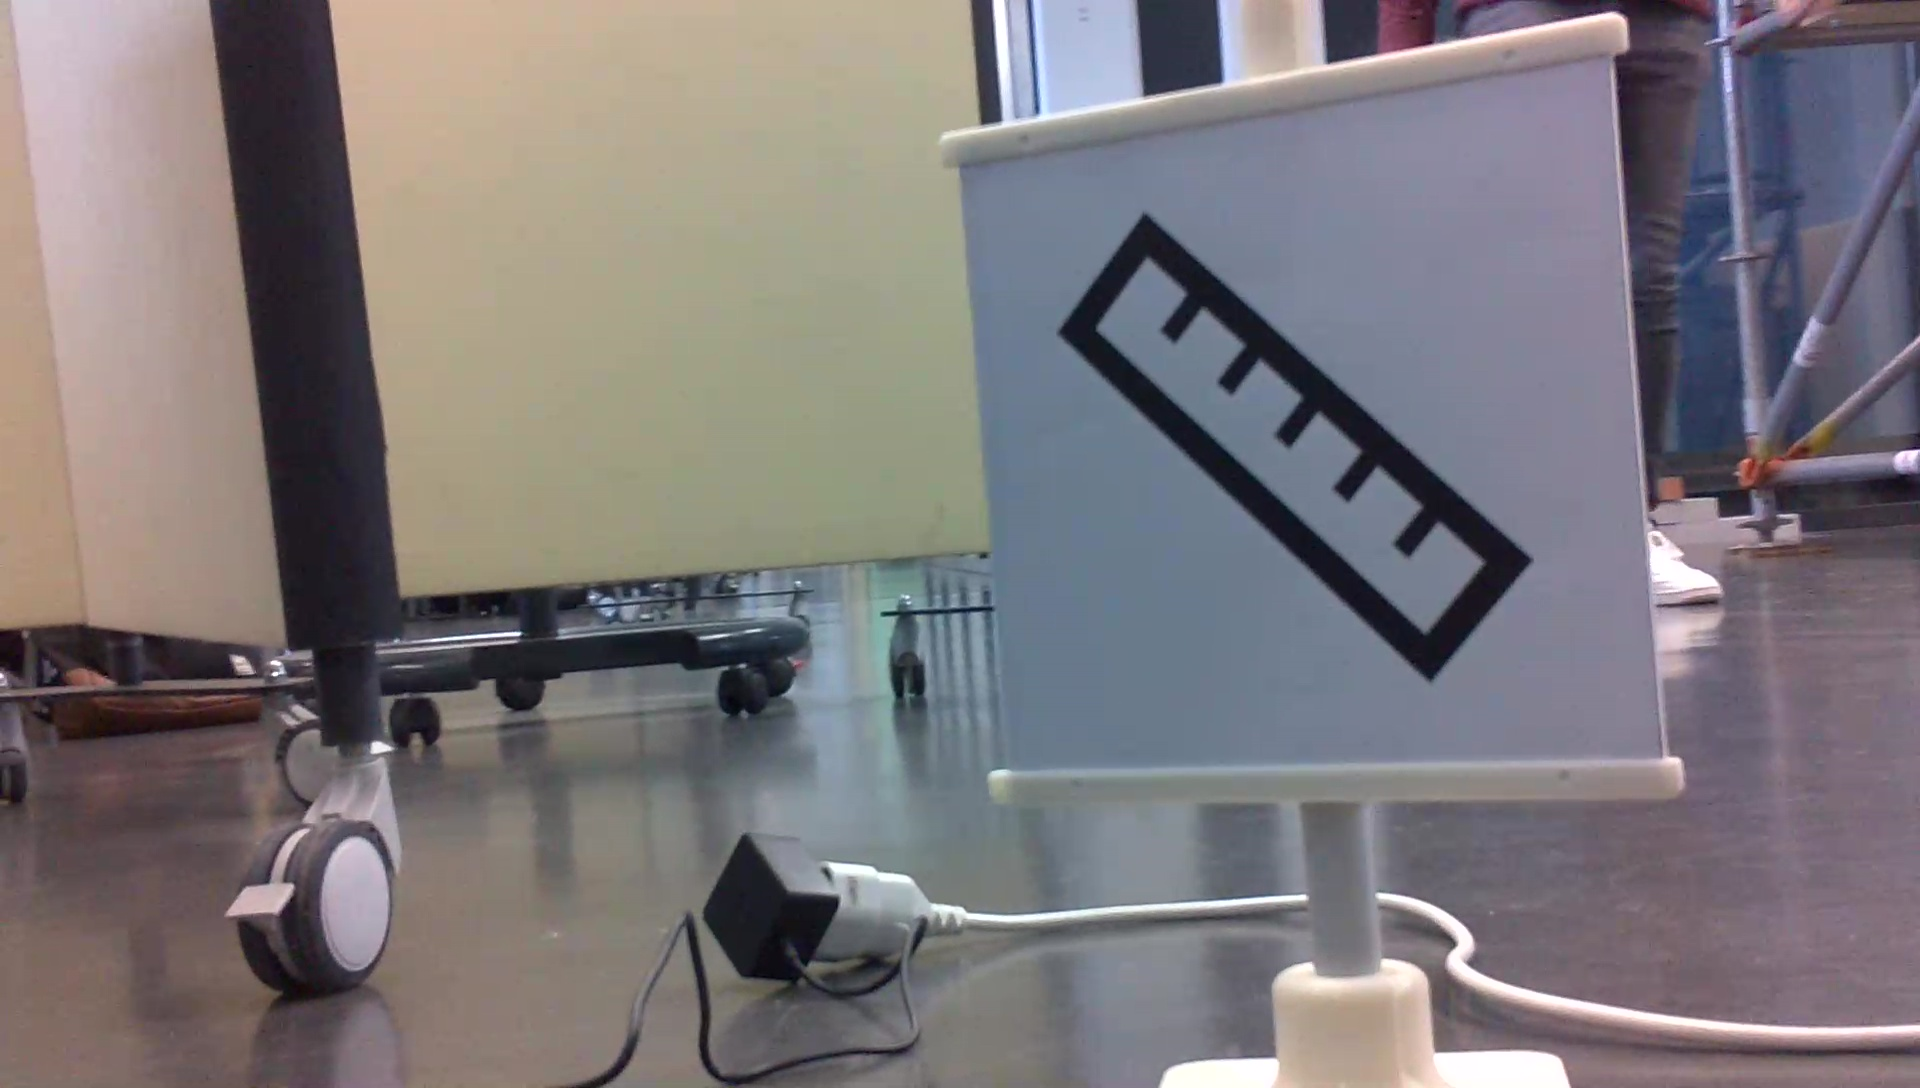ruler: (1051, 210, 1549, 691)
